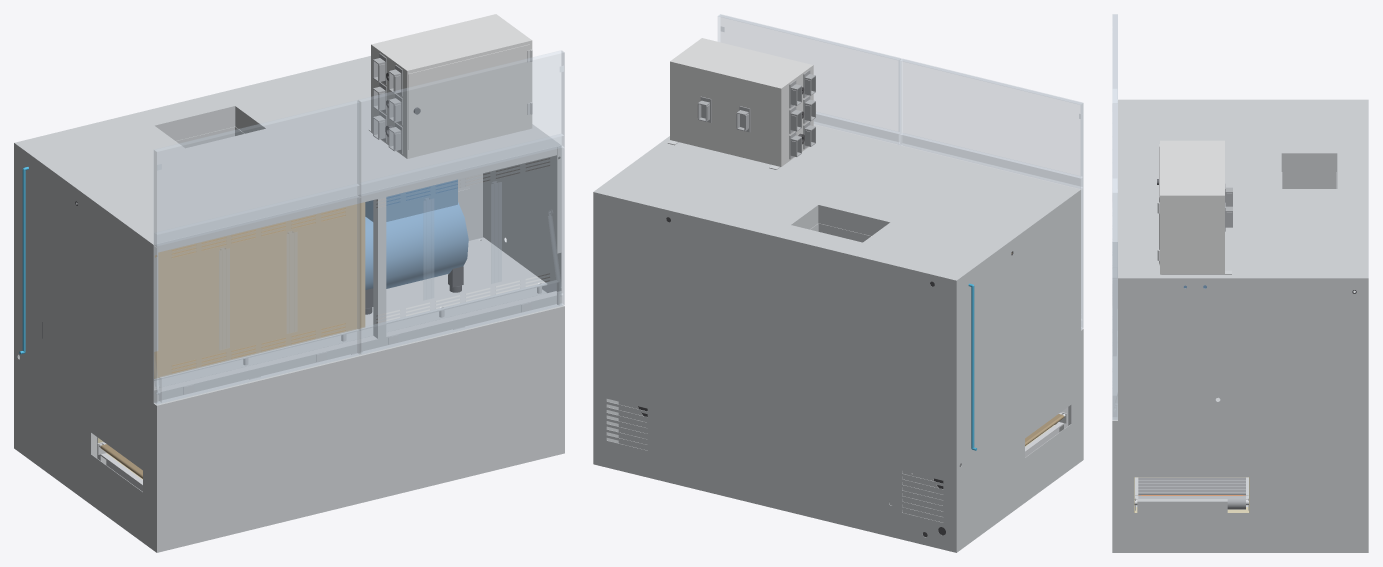
File: modul_D.glb
3 views of the same model, side by side, from view 1: azimuth 30°, elevation 25°; view 2: azimuth 150°, elevation 25°; view 3: azimuth 270°, elevation 25° (orthographic). The views are drawn at different scales.
Visible parts, largest first — view 1: F_TP10_GOVDE__sac, F_UST_KABIN__sac, F_UST_KAPAK__on_seffaf__KAPAK_F_SOL, F_UST_KAPAK__on_seffaf__KAPAK_F_SAG, D_PIZZA_YEDEK_UST__karton, F_UST_KABIN__paslanmaz, F_UST_RAF__sac, ELK_ANA_PANO_UF__pano__KAPAK_ANA_PANO, HAVA_KOMPRESOR__kompresor, ELK_ANA_PANO_UF__pano, F_DAVLUMBAZ__sac, ELK_ANA_PANO_UF__harting (+1 smaller); view 2: F_UST_KABIN__sac, F_UST_KAPAK__on_seffaf__KAPAK_F_SOL, F_TP10_GOVDE__sac, ELK_ANA_PANO_UF__pano, F_UST_KAPAK__on_seffaf__KAPAK_F_SAG, ELK_ANA_PANO_UF__harting, F_DAVLUMBAZ__sac, HAVA_KOMPRESOR__hava_ana; view 3: F_UST_KABIN__sac, F_TP10_GOVDE__sac, ELK_ANA_PANO_UF__pano, F_DAVLUMBAZ__sac, F_TP10_KONVEYOR__tel_bant, F_UST_KAPAK__on_seffaf__KAPAK_F_SAG, F_CIKIS_PLAKA__sac, F_TP10_KONVEYOR__tel_bant__RULO_TP_CIKIS, F_UST_KAPAK__on_seffaf__KAPAK_F_SOL, ELK_ANA_PANO_UF__harting.
Part boxes in pixels (left/top/right/bottom): F_TP10_GOVDE__sac: left=42, top=304, right=564, bottom=552; F_UST_KABIN__sac: left=14, top=56, right=561, bottom=468; F_UST_KAPAK__on_seffaf__KAPAK_F_SOL: left=154, top=100, right=359, bottom=404; F_UST_KAPAK__on_seffaf__KAPAK_F_SAG: left=358, top=50, right=564, bottom=354; D_PIZZA_YEDEK_UST__karton: left=154, top=202, right=365, bottom=378; F_UST_KABIN__paslanmaz: left=154, top=147, right=556, bottom=400; F_UST_RAF__sac: left=154, top=237, right=547, bottom=388; ELK_ANA_PANO_UF__pano__KAPAK_ANA_PANO: left=408, top=44, right=529, bottom=149; HAVA_KOMPRESOR__kompresor: left=365, top=179, right=468, bottom=289; ELK_ANA_PANO_UF__pano: left=371, top=14, right=532, bottom=158; F_DAVLUMBAZ__sac: left=76, top=106, right=482, bottom=240; ELK_ANA_PANO_UF__harting: left=373, top=53, right=402, bottom=153; F_UST_KABIN__sac: left=593, top=124, right=1080, bottom=552; F_UST_KAPAK__on_seffaf__KAPAK_F_SOL: left=900, top=59, right=1083, bottom=329; F_TP10_GOVDE__sac: left=618, top=328, right=1083, bottom=534; ELK_ANA_PANO_UF__pano: left=670, top=38, right=813, bottom=166; F_UST_KAPAK__on_seffaf__KAPAK_F_SAG: left=718, top=14, right=901, bottom=145; ELK_ANA_PANO_UF__harting: left=697, top=70, right=815, bottom=159; F_DAVLUMBAZ__sac: left=791, top=205, right=889, bottom=242; HAVA_KOMPRESOR__hava_ana: left=968, top=283, right=976, bottom=450; F_UST_KABIN__sac: left=1118, top=99, right=1368, bottom=552; F_TP10_GOVDE__sac: left=1112, top=242, right=1318, bottom=552; ELK_ANA_PANO_UF__pano: left=1160, top=140, right=1224, bottom=274; F_DAVLUMBAZ__sac: left=1281, top=154, right=1355, bottom=292; F_TP10_KONVEYOR__tel_bant: left=1138, top=477, right=1245, bottom=494; F_UST_KAPAK__on_seffaf__KAPAK_F_SAG: left=1112, top=104, right=1117, bottom=419; F_CIKIS_PLAKA__sac: left=1137, top=499, right=1227, bottom=512; F_TP10_KONVEYOR__tel_bant__RULO_TP_CIKIS: left=1138, top=495, right=1245, bottom=509; F_UST_KAPAK__on_seffaf__KAPAK_F_SOL: left=1112, top=14, right=1117, bottom=103; ELK_ANA_PANO_UF__harting: left=1225, top=183, right=1232, bottom=231.
Size of the model in its own units: 1.55 by 1.41 by 0.909.
